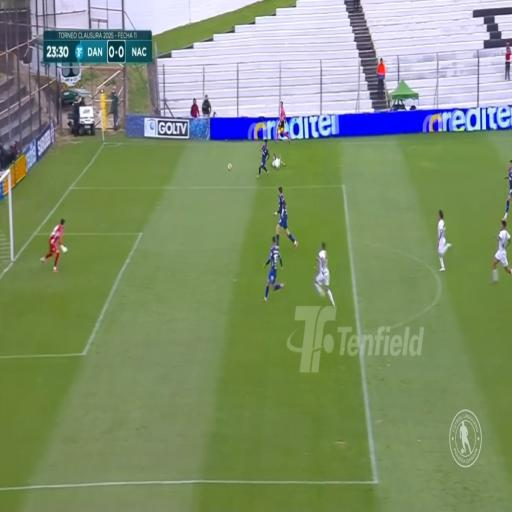Ball: (227, 164, 232, 172)
Goalkeeper: (44, 216, 65, 272)
Player: (275, 182, 294, 250), (268, 238, 281, 303), (319, 244, 333, 300), (497, 223, 508, 288), (438, 210, 450, 267), (260, 139, 270, 183), (505, 157, 512, 215), (272, 153, 283, 170)
Referee: (278, 100, 287, 140)
